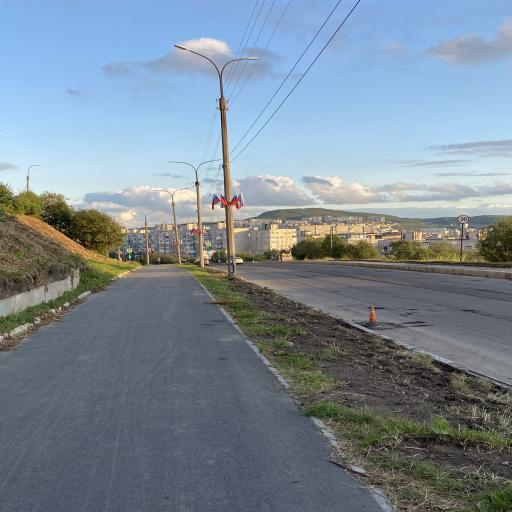phone: (175, 44, 258, 277), (169, 160, 217, 268), (154, 188, 188, 263)
ramp: (238, 262, 512, 382)
shelf: (0, 266, 378, 512)
